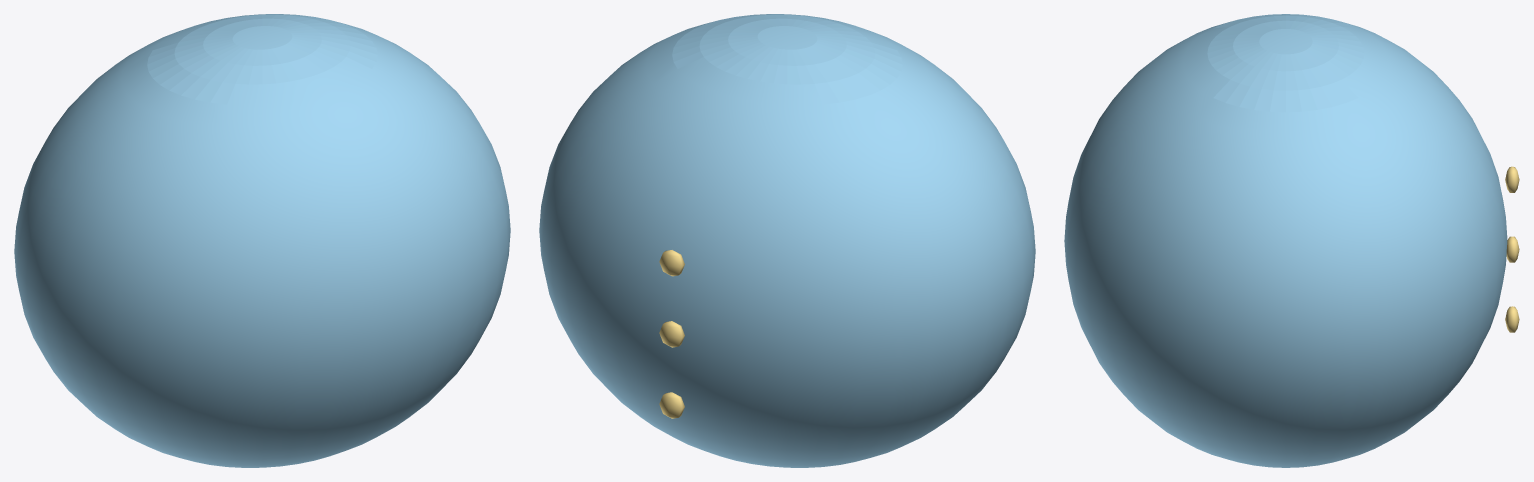
File: Top_Vest.fbx
The picture shows the model from 3 angles, left to right: view 1: azimuth 30°, elevation 25°; view 2: azimuth 150°, elevation 25°; view 3: azimuth 270°, elevation 25°; orthographic projection.
Parts seen in each view (by area): view 1: Vest; view 2: Vest, Vest_Button, Vest_Button.001, Vest_Button.002; view 3: Vest.
Part boxes in pixels (left/top/right/bottom): Vest: left=14, top=14, right=510, bottom=467; Vest: left=539, top=14, right=1035, bottom=467; Vest_Button: left=659, top=392, right=684, bottom=418; Vest_Button.001: left=659, top=321, right=684, bottom=347; Vest_Button.002: left=659, top=250, right=684, bottom=276; Vest: left=1064, top=14, right=1507, bottom=467.
Size of the model in its own units: 52 by 46 by 47.25.
